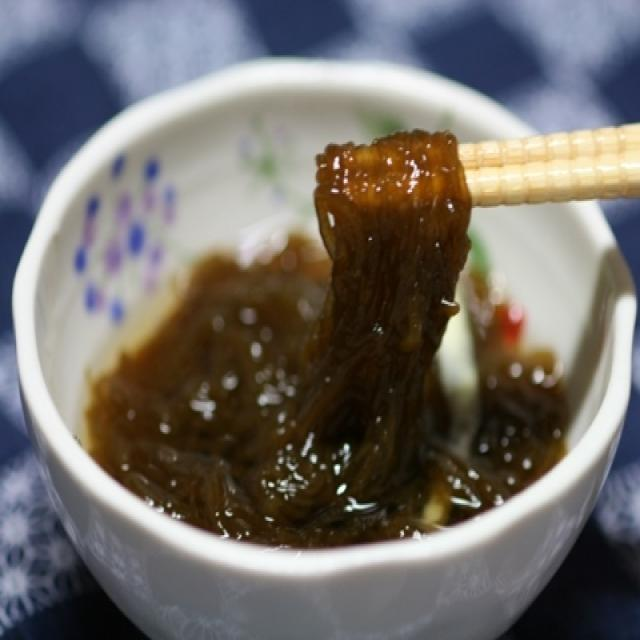蔬菜料理: (21, 53, 608, 578)
